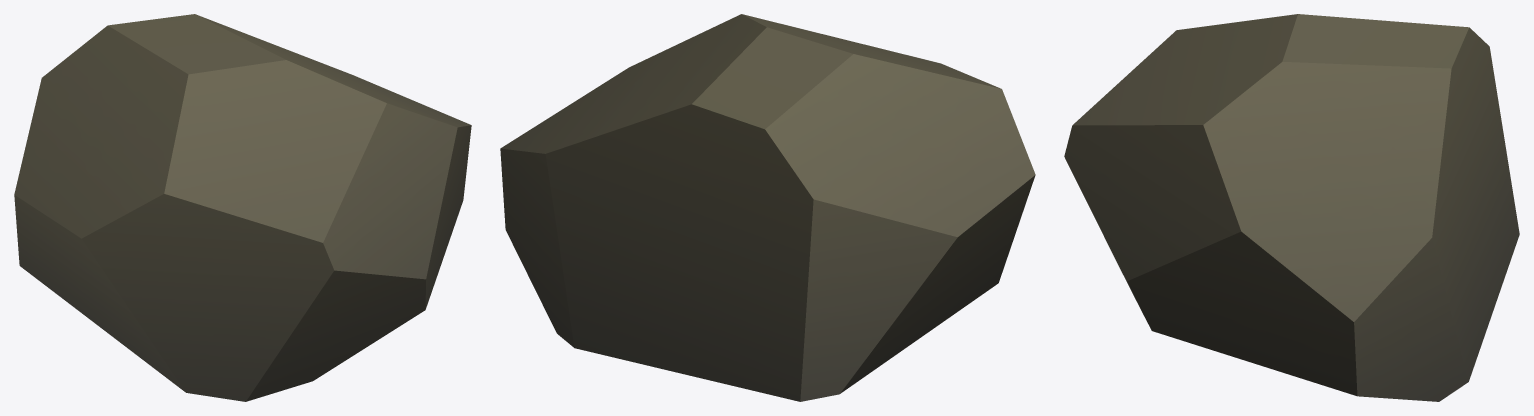
File: RockFull.fbx
The picture shows the model from 3 angles, left to right: view 1: azimuth 30°, elevation 25°; view 2: azimuth 150°, elevation 25°; view 3: azimuth 270°, elevation 25°; orthographic projection. The views are drawn at different scales.
Visible parts, largest first — view 1: Stone; view 2: Stone; view 3: Stone.
Part boxes in pixels (box(x1,y1,x2,y2)): Stone: box(14, 14, 471, 401); Stone: box(500, 14, 1035, 401); Stone: box(1064, 14, 1519, 401).
Bounding box in the file's own units: 95.73 × 54.72 × 80.9.
